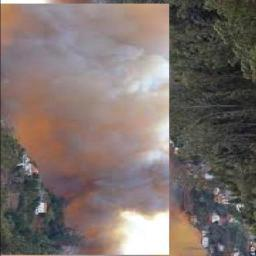Heavy smoke: (2, 3, 170, 256)
